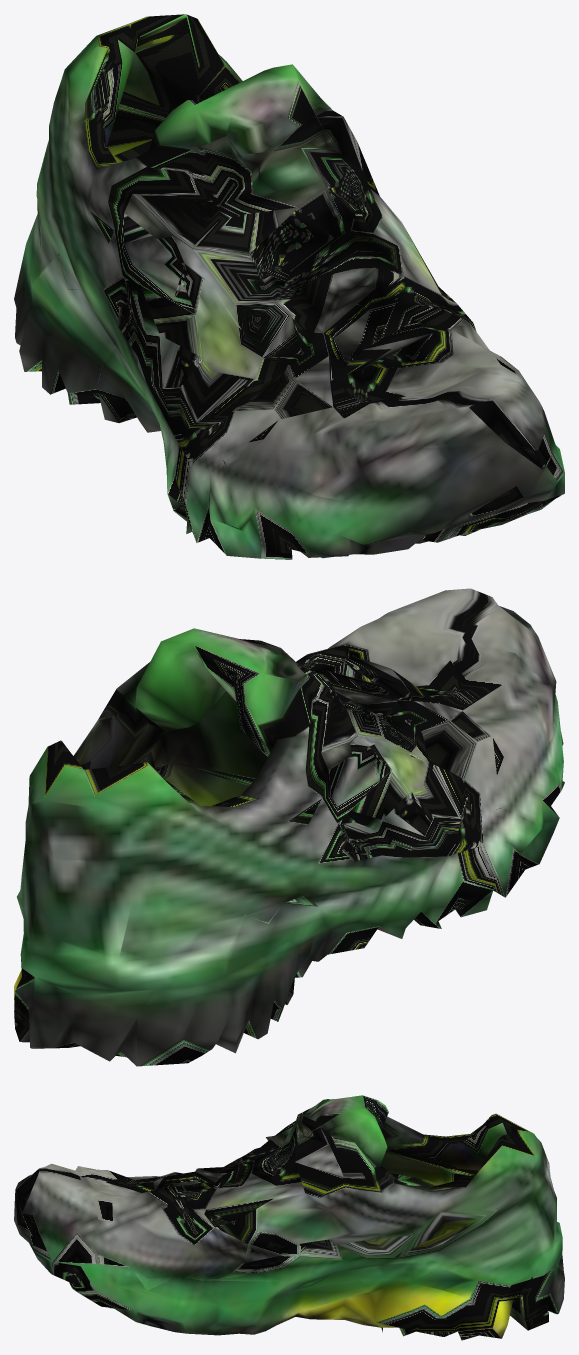
The model's file is gso_ghost_6_gtx_color_anthblckslvrfernsulphsprng_size_80.glb.
The picture shows the model from 3 angles, top to bottom: view 1: azimuth 30°, elevation 25°; view 2: azimuth 150°, elevation 25°; view 3: azimuth 270°, elevation 25°; orthographic projection. The views are drawn at different scales.
Parts seen in each view (by area): view 1: z-up-to-y-up; view 2: z-up-to-y-up; view 3: z-up-to-y-up.
Boxes of the visible parts, bbox=[...] form: z-up-to-y-up: bbox=[14, 14, 564, 559]; z-up-to-y-up: bbox=[14, 588, 564, 1066]; z-up-to-y-up: bbox=[14, 1095, 564, 1340].
Bounding box in the file's own units: 0.112 × 0.1216 × 0.2875.
1 material, 1 textured.
